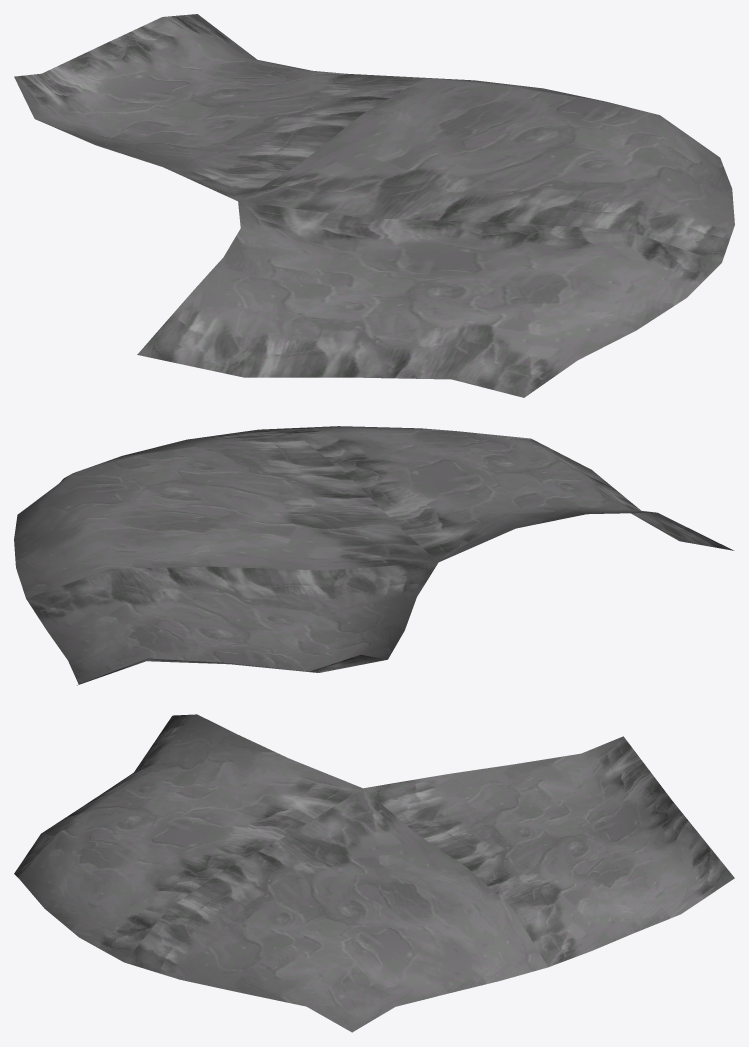
The model's file is SWORDLIGHT20_PS-AREA03_137.obj.
The picture shows the model from 3 angles, top to bottom: view 1: azimuth 30°, elevation 25°; view 2: azimuth 150°, elevation 25°; view 3: azimuth 270°, elevation 25°; orthographic projection. The views are drawn at different scales.
Visible parts, largest first — view 1: PS-Area03_137; view 2: PS-Area03_137; view 3: PS-Area03_137.
Part boxes in pixels (bbox=[...]): PS-Area03_137: bbox=[14, 14, 734, 397]; PS-Area03_137: bbox=[14, 426, 734, 685]; PS-Area03_137: bbox=[14, 714, 734, 1032].
Size of the model in its own units: 1396 by 186 by 1537.
